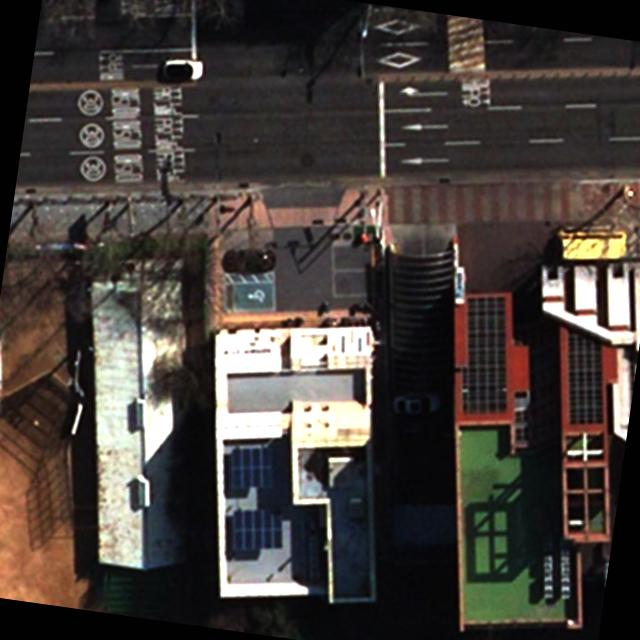solar: (224, 505, 288, 561), (224, 441, 281, 498)
